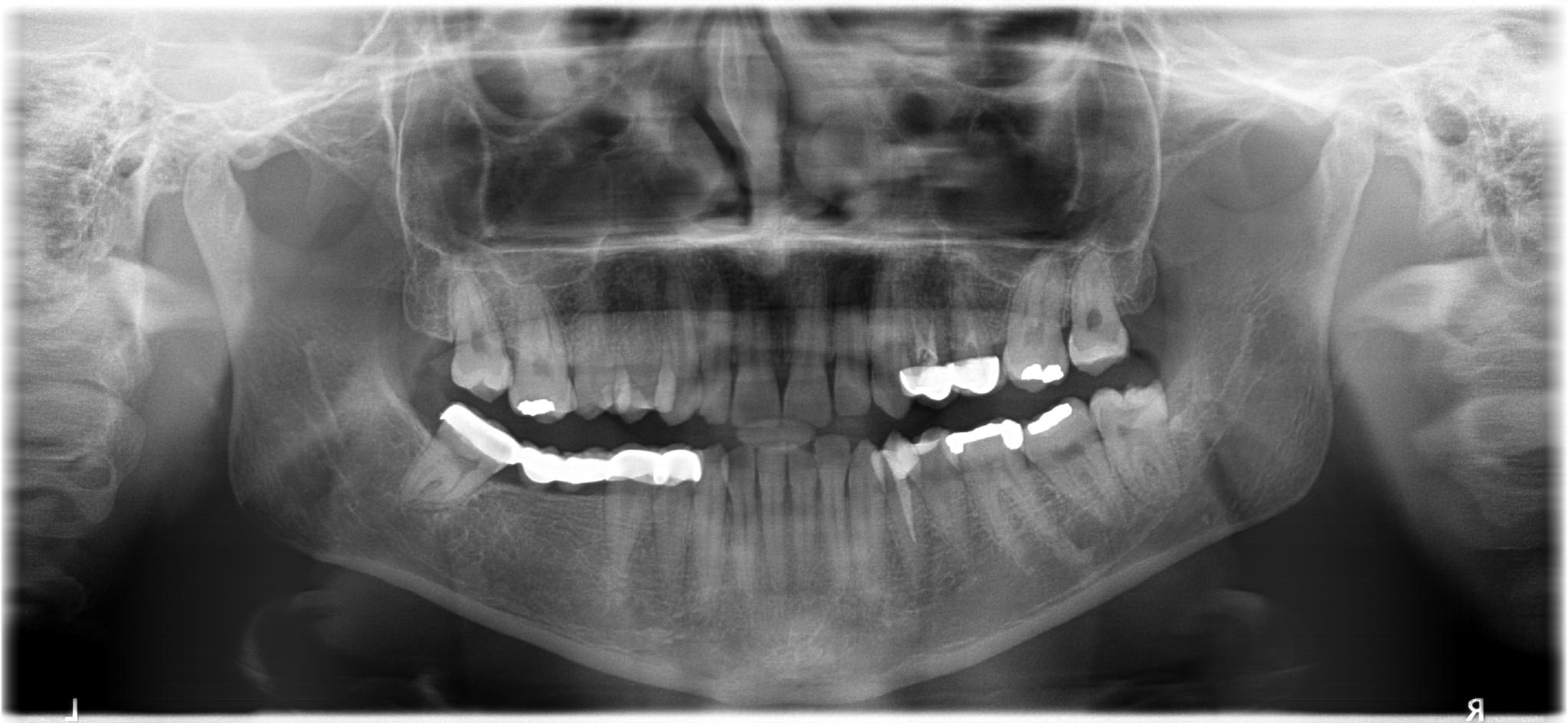Premolars: (601, 277, 1568, 723), (293, 230, 871, 591)
